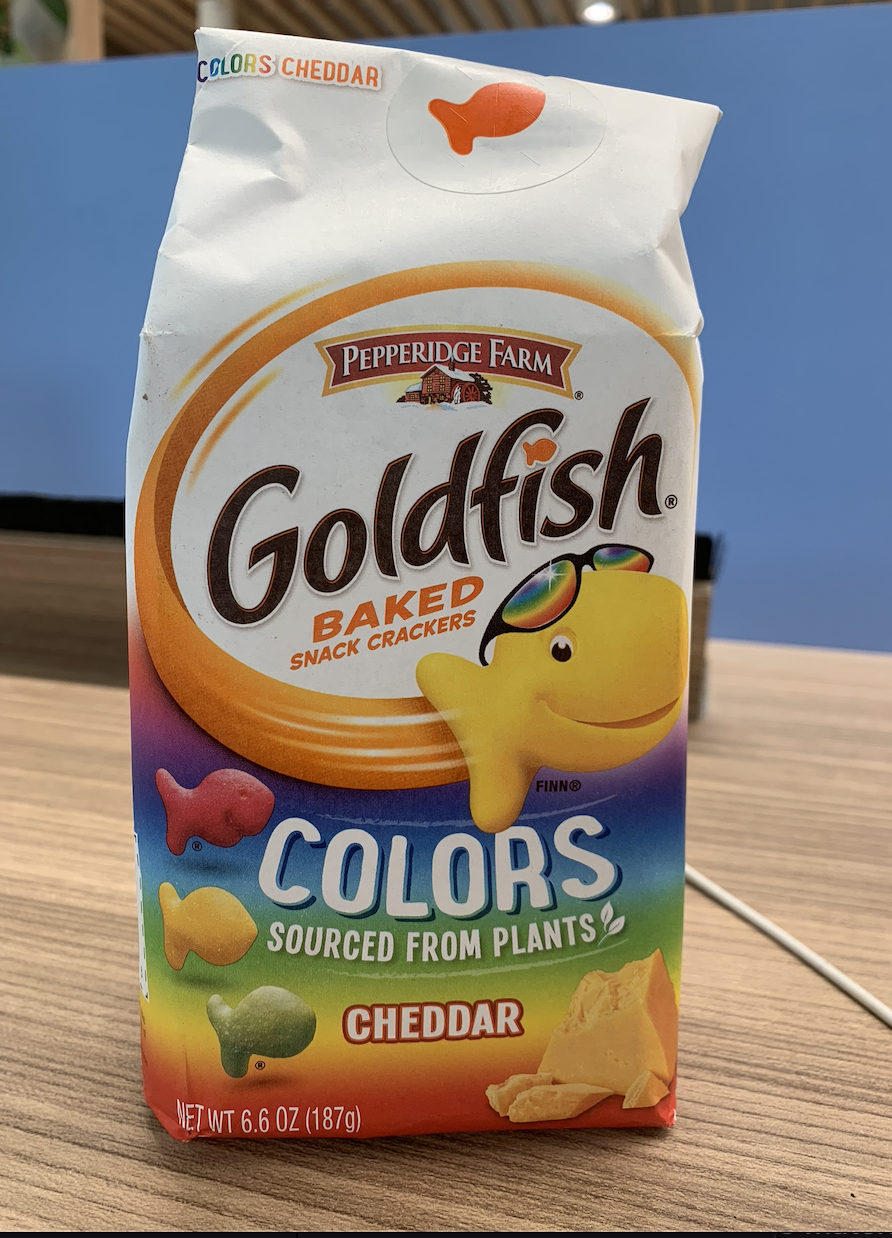crackers_100g-199g: (194, 89, 661, 1133)
